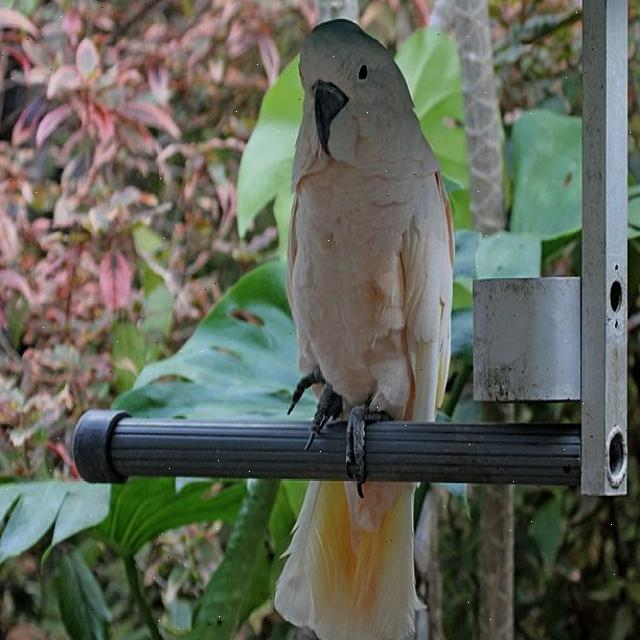Kakatua Putih: (246, 0, 480, 640)
